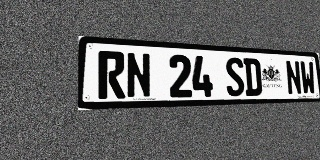2: (169, 54, 192, 98)
4: (191, 55, 213, 97)
D: (243, 58, 262, 96)
N: (126, 52, 151, 98), (285, 60, 302, 95)
R: (98, 51, 125, 99)
S: (225, 57, 245, 96)
W: (300, 61, 316, 95)
